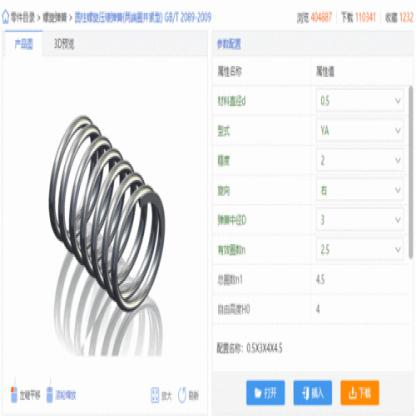FOD: (45, 111, 167, 313)
